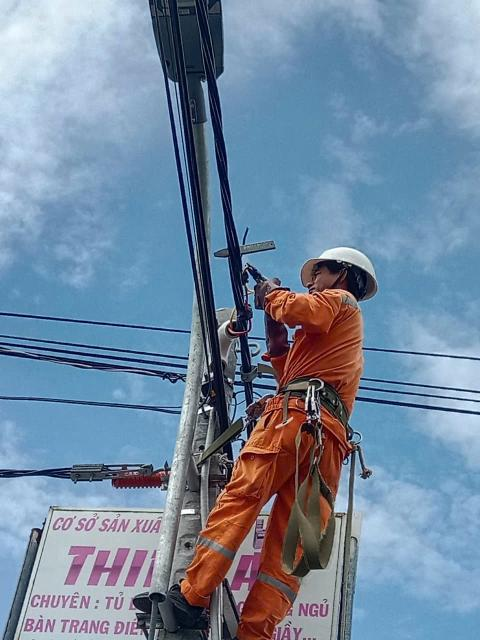gloves: (255, 307, 297, 360), (245, 275, 291, 317)
harness: (267, 358, 366, 442)
helmet: (293, 236, 379, 298)
shoes: (130, 580, 201, 626)
